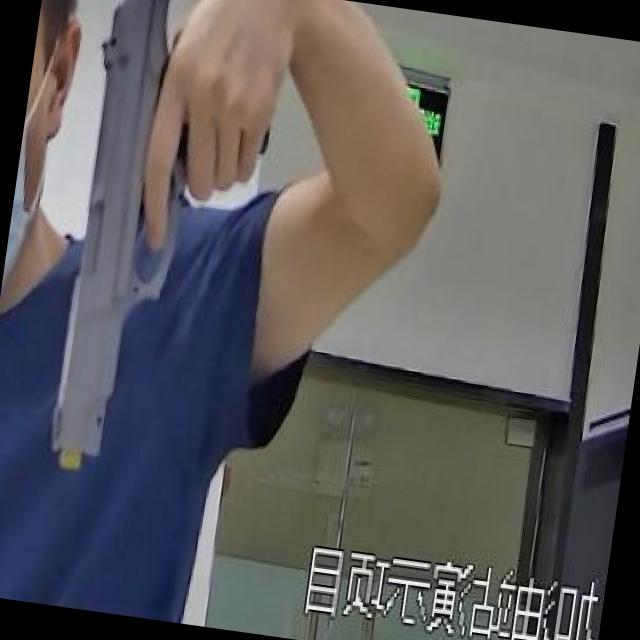Guns: (0, 0, 261, 491)
